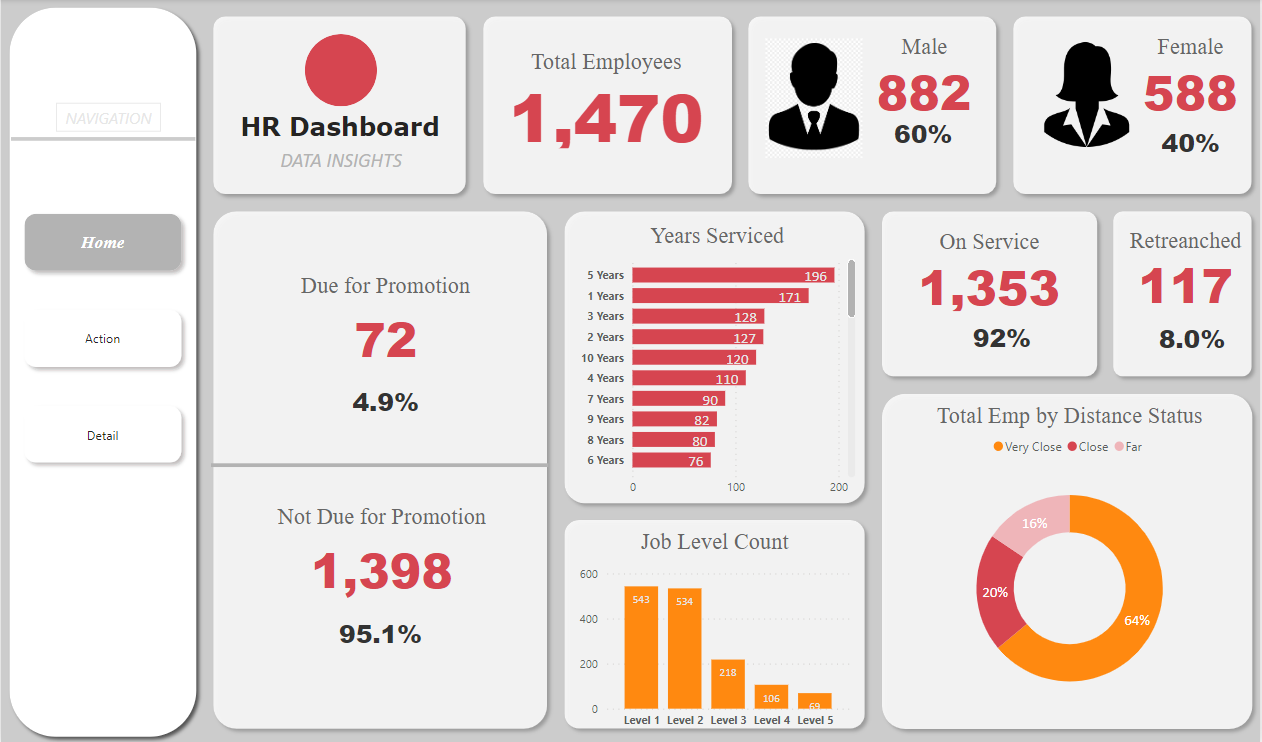

What the dashboard file says about the page in this screenshot:
{"tool":"powerbi","page":{"name":"Home","canvas":[1350,800],"ordinal":0},"visuals":[{"type":"shape","box":[0,0,218.8,800],"z":0},{"type":"shape","box":[218.8,10,288.8,208.8],"z":1000},{"type":"shape","box":[507.5,10,285,208.8],"z":2000},{"type":"shape","box":[792.5,10,283.8,208.8],"z":3000},{"type":"shape","box":[1076.2,10,273.8,208.8],"z":4000},{"type":"shape","box":[218.8,218.8,376.2,572.5],"z":5000},{"type":"shape","box":[595,218.8,340,331.2],"z":6000},{"type":"shape","box":[595,550,340,241.2],"z":7000},{"type":"shape","box":[935,218.8,248.8,195],"z":8000},{"type":"shape","box":[1183.8,218.8,166.2,195],"z":9000},{"type":"shape","box":[935,413.8,415,377.5],"z":10000},{"type":"textbox","box":[225,115,276.2,50],"z":11000},{"type":"textbox","box":[213.8,155,300,40],"z":12000},{"type":"shape","box":[325,37.5,77.5,77.5],"z":13000},{"type":"card","title":"Total Employees","fields":{"Values":["All Measures.Total Emp"]},"box":[532.5,53.8,233.8,111.2],"z":14000},{"type":"card","title":"On Service","fields":{"Values":["All Measures.on service"]},"box":[935.7,247.1,248.6,92.9],"z":15000},{"type":"card","title":"Male","fields":{"Values":["All Measures.% service"]},"box":[1024.1,336.6,98.8,55],"z":16000},{"type":"card","title":"Female","fields":{"Values":["All Measures.Female"]},"box":[1212.2,37.5,125,93.8],"z":17000},{"type":"card","title":"Male","fields":{"Values":["All Measures.% female"]},"box":[1226.2,127.5,98.8,55],"z":18000},{"type":"image","box":[1086.2,31.2,153.8,143.8],"z":19000},{"type":"image","box":[806.2,37.5,128.8,137.5],"z":20000},{"type":"card","title":"Due for Promotion","fields":{"Values":["All Measures.due for promotion"]},"box":[248.8,293.8,326.2,111.2],"z":21000},{"type":"card","title":"Male","fields":{"Values":["All Measures.% due"]},"box":[363.8,405,98.8,55],"z":22000},{"type":"card","title":"Not Due for Promotion","fields":{"Values":["All Measures.not due"]},"box":[245.8,541.7,326.2,111.2],"z":23000},{"type":"card","title":"Male","fields":{"Values":["All Measures.% not due"]},"box":[356.2,652.5,101.2,57.5],"z":24000},{"type":"shape","box":[225,350,361.2,300],"z":25000},{"type":"barChart","title":"Years Serviced","fields":{"Category":["HR Analytics Data.Service Years"],"Y":["All Measures.Total Emp"]},"box":[615.7,240,305.7,301.4],"z":26000},{"type":"clusteredColumnChart","title":"Job Level Count","fields":{"Y":["All Measures.Total Emp"],"Category":["HR Analytics Data.Job Level"]},"box":[615.7,568.6,300,222.9],"z":27000},{"type":"donutChart","fields":{"Category":["HR Analytics Data.Distance Status"],"Y":["All Measures.Total Emp"]},"box":[952.9,432.9,385.7,341.4],"z":28000},{"type":"card","title":"Male","fields":{"Values":["All Measures.Male"]},"box":[927.4,37.2,125,93.8],"z":29000},{"type":"card","title":"Male","fields":{"Values":["All Measures.% male"]},"box":[940,118.6,98.6,55.7],"z":30000},{"type":"card","title":"Retreanched","fields":{"Values":["All Measures.retreanchement"]},"box":[1190,245.7,160,92.9],"z":31000},{"type":"card","title":"Male","fields":{"Values":["All Measures.% retreanched"]},"box":[1227.1,337.1,98.6,54.3],"z":32000},{"type":"pageNavigator","box":[16.2,221.2,186.2,286.2],"z":33000},{"type":"actionButton","box":[60,345,100,40],"z":34000},{"type":"shape","box":[11.2,0,197.5,300],"z":35000},{"type":"textbox","box":[58.8,111.2,112.5,31.2],"z":36000},{"type":"actionButton","box":[60,448.8,100,40],"z":37000}]}

Visuals, with their boxes on the page's 1350x800 design canvas (x1, y1, x2, y2). These are canvas units, not pixel positions in the 1262x742 screenshot, which may show the page scaled, cropped or inside an application window:
shape: pyautogui.locateOnScreen(0, 0, 219, 800)
shape: pyautogui.locateOnScreen(219, 10, 508, 219)
shape: pyautogui.locateOnScreen(508, 10, 792, 219)
shape: pyautogui.locateOnScreen(792, 10, 1076, 219)
shape: pyautogui.locateOnScreen(1076, 10, 1350, 219)
shape: pyautogui.locateOnScreen(219, 219, 595, 791)
shape: pyautogui.locateOnScreen(595, 219, 935, 550)
shape: pyautogui.locateOnScreen(595, 550, 935, 791)
shape: pyautogui.locateOnScreen(935, 219, 1184, 414)
shape: pyautogui.locateOnScreen(1184, 219, 1350, 414)
shape: pyautogui.locateOnScreen(935, 414, 1350, 791)
textbox: pyautogui.locateOnScreen(225, 115, 501, 165)
textbox: pyautogui.locateOnScreen(214, 155, 514, 195)
shape: pyautogui.locateOnScreen(325, 38, 402, 115)
"Total Employees" card: pyautogui.locateOnScreen(532, 54, 766, 165)
"On Service" card: pyautogui.locateOnScreen(936, 247, 1184, 340)
"Male" card: pyautogui.locateOnScreen(1024, 337, 1123, 392)
"Female" card: pyautogui.locateOnScreen(1212, 38, 1337, 131)
"Male" card: pyautogui.locateOnScreen(1226, 128, 1325, 182)
image: pyautogui.locateOnScreen(1086, 31, 1240, 175)
image: pyautogui.locateOnScreen(806, 38, 935, 175)
"Due for Promotion" card: pyautogui.locateOnScreen(249, 294, 575, 405)
"Male" card: pyautogui.locateOnScreen(364, 405, 463, 460)
"Not Due for Promotion" card: pyautogui.locateOnScreen(246, 542, 572, 653)
"Male" card: pyautogui.locateOnScreen(356, 652, 457, 710)
shape: pyautogui.locateOnScreen(225, 350, 586, 650)
"Years Serviced" barChart: pyautogui.locateOnScreen(616, 240, 921, 541)
"Job Level Count" clusteredColumnChart: pyautogui.locateOnScreen(616, 569, 916, 792)
donutChart - HR Analytics Data.Distance Status x All Measures.Total Emp: pyautogui.locateOnScreen(953, 433, 1339, 774)
"Male" card: pyautogui.locateOnScreen(927, 37, 1052, 131)
"Male" card: pyautogui.locateOnScreen(940, 119, 1039, 174)
"Retreanched" card: pyautogui.locateOnScreen(1190, 246, 1350, 339)
"Male" card: pyautogui.locateOnScreen(1227, 337, 1326, 391)
pageNavigator: pyautogui.locateOnScreen(16, 221, 202, 507)
actionButton: pyautogui.locateOnScreen(60, 345, 160, 385)
shape: pyautogui.locateOnScreen(11, 0, 209, 300)
textbox: pyautogui.locateOnScreen(59, 111, 171, 142)
actionButton: pyautogui.locateOnScreen(60, 449, 160, 489)
